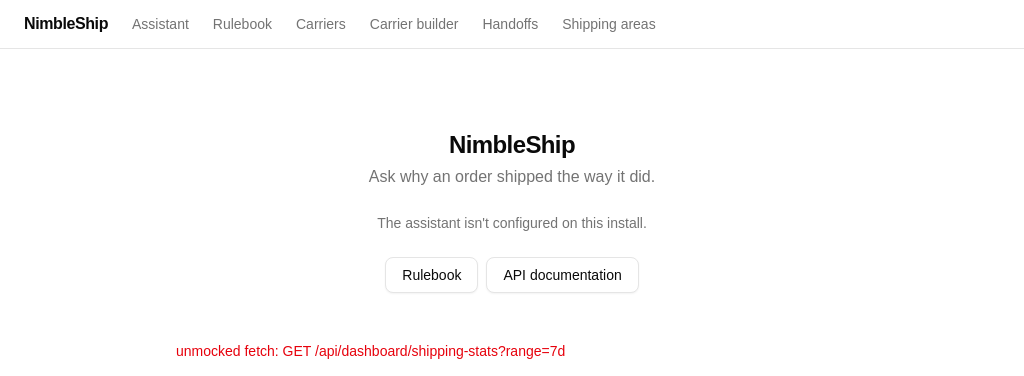
Scenario: App › navigates to the Rulebook section
The image size is (1024, 376).
Click the link "Rulebook".
click(242, 24)  # box [213,14,272,34]
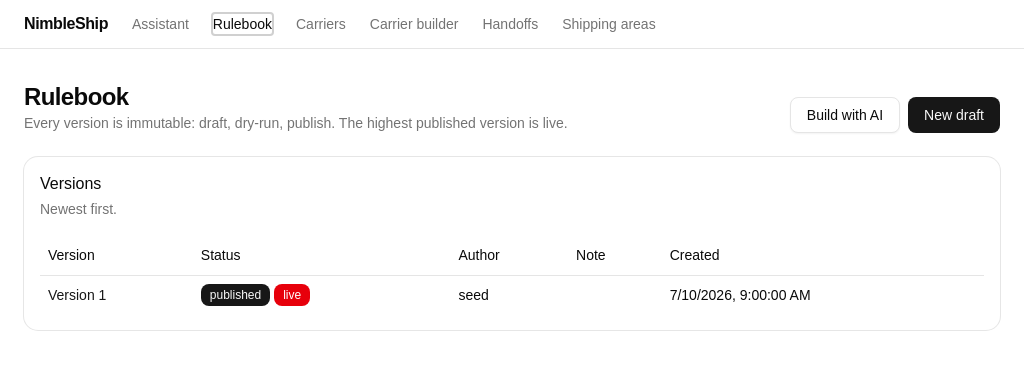
Expected: the heading "Rulebook" is shown, [24,83,128,110]
Now the link "Version 1" is shown, box [48,286,106,302]
